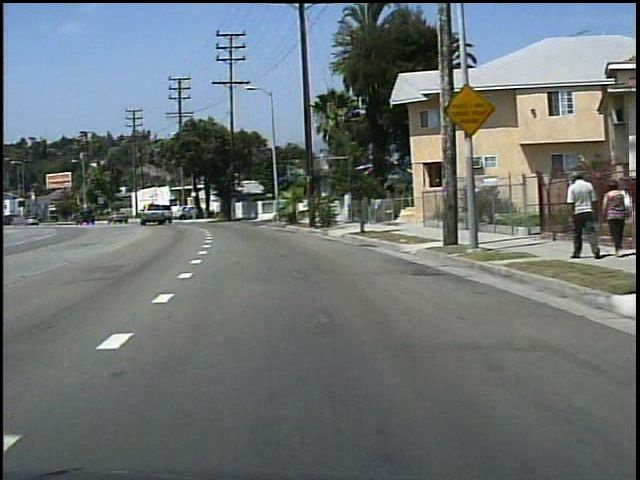person: (558, 167, 599, 261), (592, 177, 629, 255)
